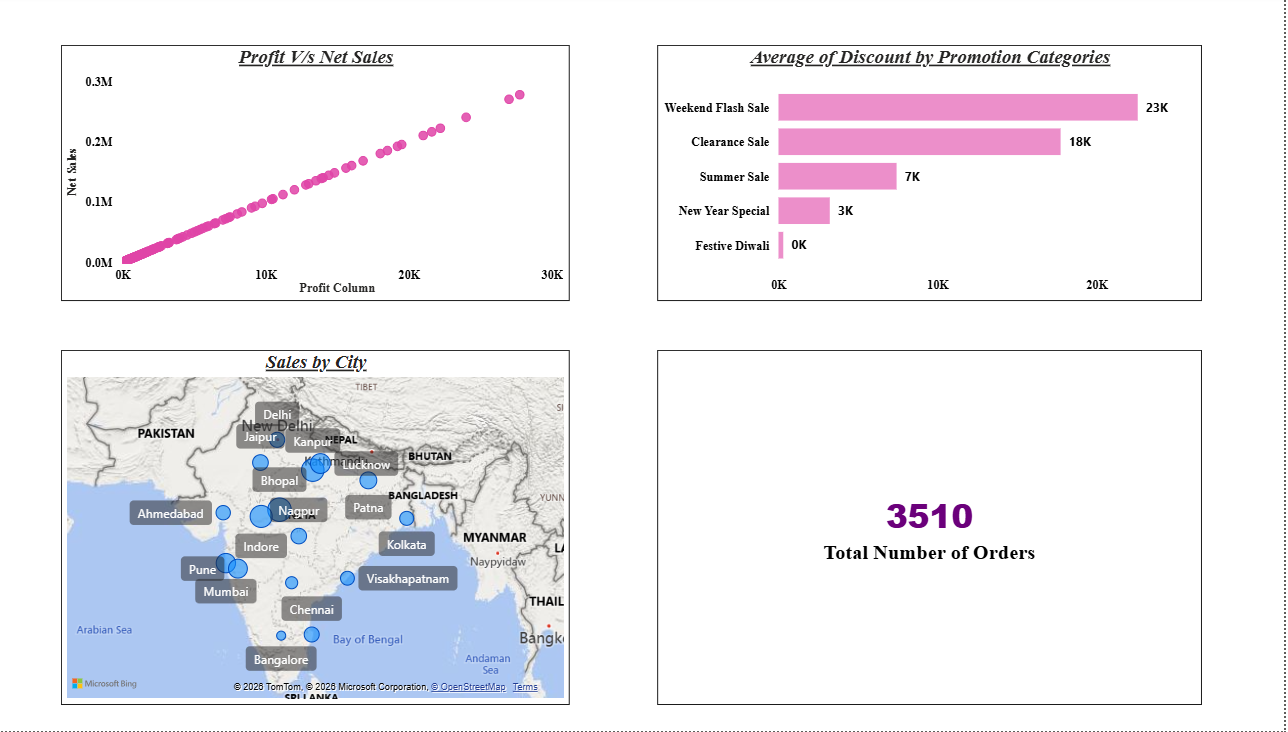

The dashboard page shown, as its layout file describes it:
{"tool":"powerbi","page":{"name":"Sales & Profitability Analysis","canvas":[1280,720],"ordinal":1},"visuals":[{"type":"scatterChart","title":"Profit V/s Net Sales    ","fields":{"X":["Fact Table.Profit Column"],"Y":["Fact Table.Net Sales    "]},"box":[83.2,48.9,497.7,250.7],"z":0},{"type":"barChart","title":"Average of Discount by Promotion Categories","fields":{"Y":["Avg(Fact Table.Discount)"],"Category":["Dim Promotion.Promotion Name"]},"box":[666.4,48.9,533.2,250.7],"z":1000},{"type":"map","title":"Sales by City","fields":{"Category":["Dim Customers.City"],"Size":["Sum(Fact Table.Net Sales    )"]},"box":[83.2,347.3,497.7,347.3],"z":2000},{"type":"card","fields":{"Values":["Count(Fact Table.Order ID)"]},"box":[666.4,347.3,533.2,347.3],"z":3000}]}

Visuals, with their boxes in screenshot pixels (x1, y1, x2, y2), scaled from the page's 1280x720 canvas onto the 1288x732 screenshot:
"Profit V/s Net Sales    " scatterChart: 84,50,585,305
"Average of Discount by Promotion Categories" barChart: 671,50,1207,305
"Sales by City" map: 84,353,585,706
card - Count(Fact Table.Order ID): 671,353,1207,706
